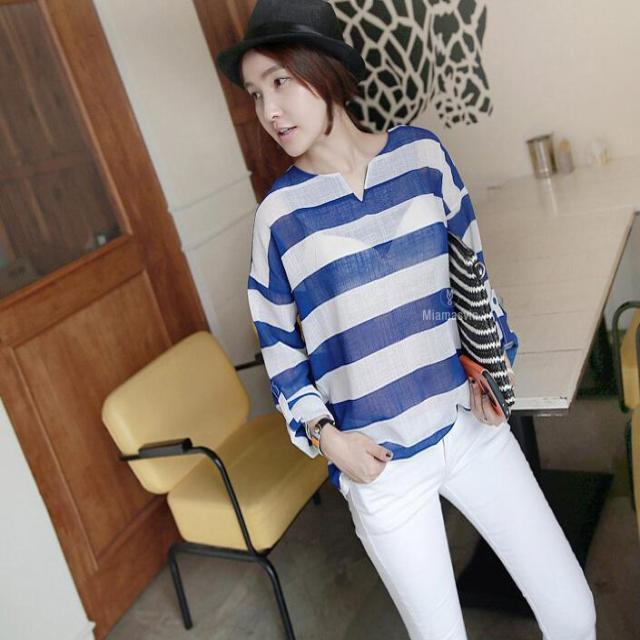long-sleeve-top: (205, 156, 544, 454)
